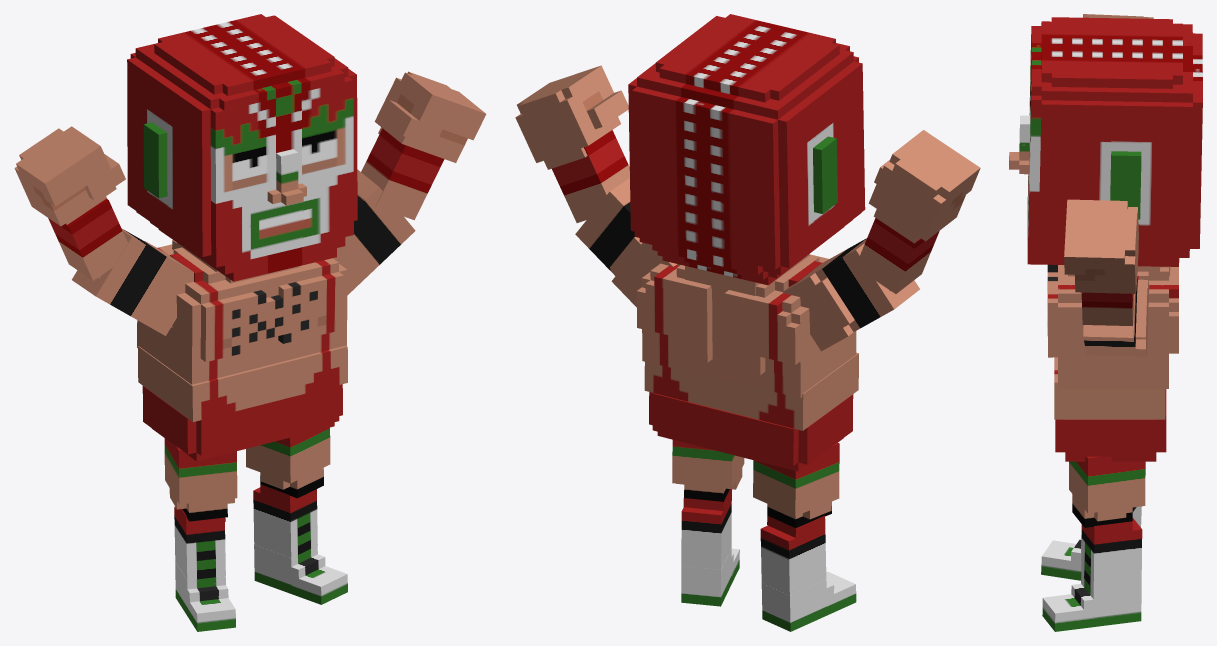
The model's file is common.fbx.
3 renders of one model, left to right at view 1: azimuth 30°, elevation 25°; view 2: azimuth 150°, elevation 25°; view 3: azimuth 270°, elevation 25°, orthographic.
Visible parts, largest first — view 1: Head-Local; view 2: Head-Local; view 3: Head-Local.
Part boxes in pixels (box(x1,y1,x2,y2)): Head-Local: box(14, 14, 486, 631); Head-Local: box(515, 14, 980, 631); Head-Local: box(1009, 14, 1202, 631).
Size of the model in its own units: 504 by 604 by 192.
1 material, 1 textured.
